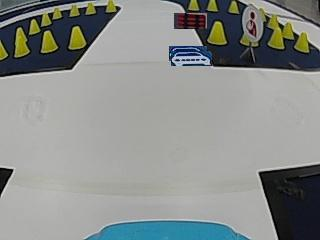cone: (208, 21, 228, 45), (14, 28, 29, 56), (68, 27, 86, 49), (41, 31, 58, 52), (268, 28, 284, 49), (295, 31, 309, 53), (29, 18, 40, 33), (0, 39, 8, 59), (104, 0, 116, 13), (206, 0, 218, 12), (85, 2, 96, 15), (41, 13, 52, 25), (228, 1, 239, 13), (69, 4, 80, 16), (188, 0, 199, 11), (52, 7, 62, 19)
patient: (241, 4, 263, 38)
